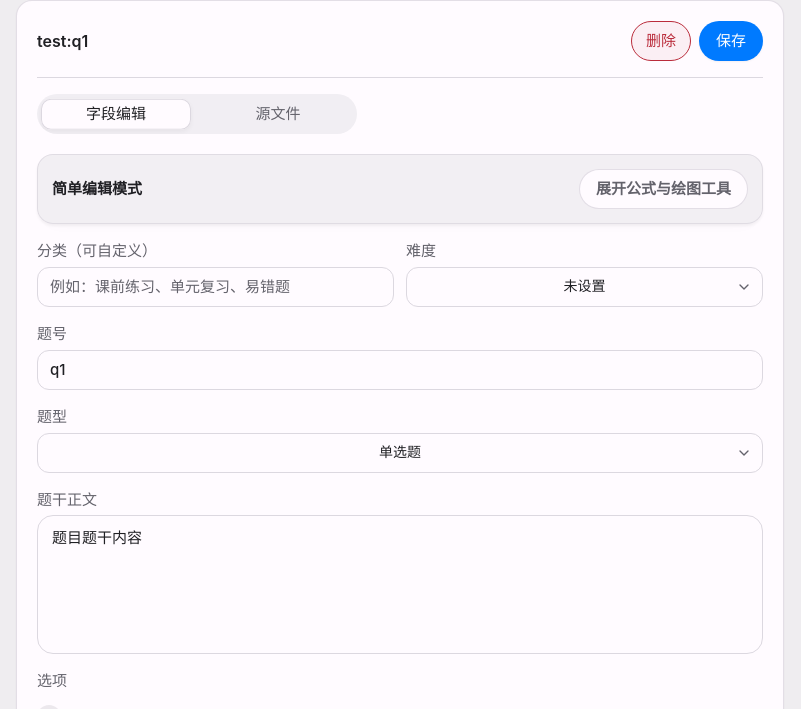
it: BankQuestionEditorPanel User Journeys › Single Question Mode › lets teachers select and clear simple/medium/hard question difficulty
Click the dropdown named "题目难度" at (584, 286), box [406, 266, 763, 306]
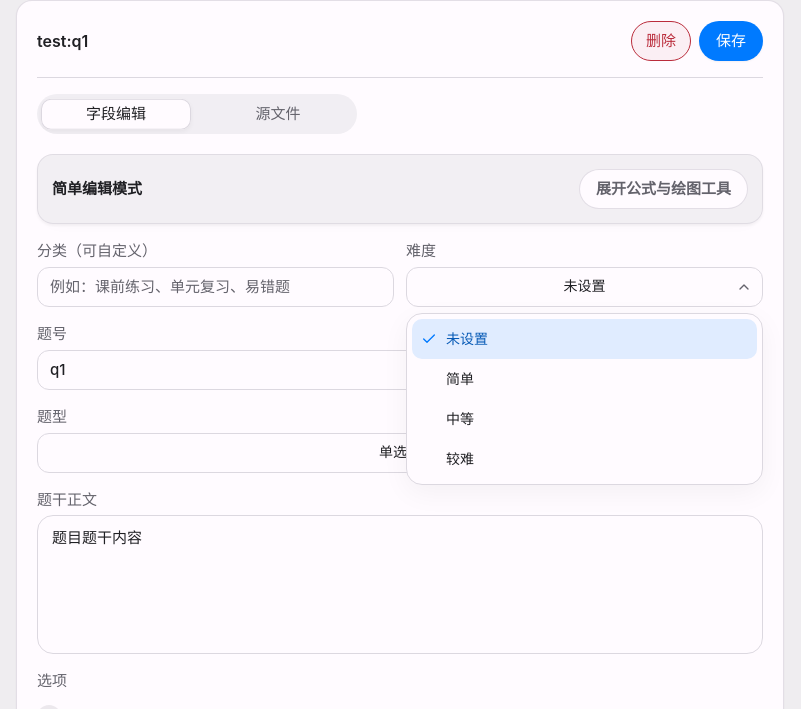
Click the option "较难" at (460, 459), box [446, 450, 474, 467]
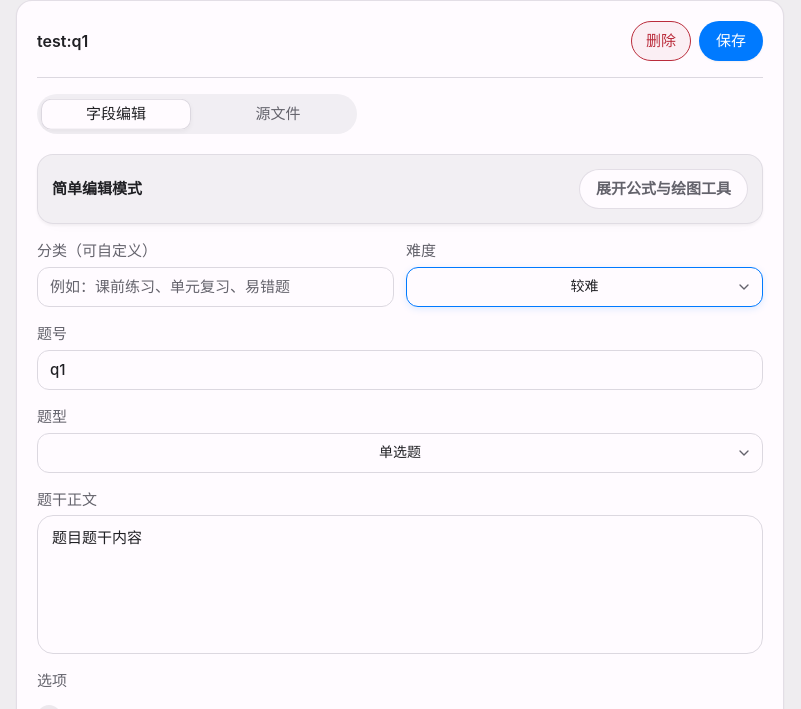
Result: the dropdown named "题目难度" reads "较难"
Click the dropdown named "题目难度" at (584, 286), box [406, 266, 763, 306]
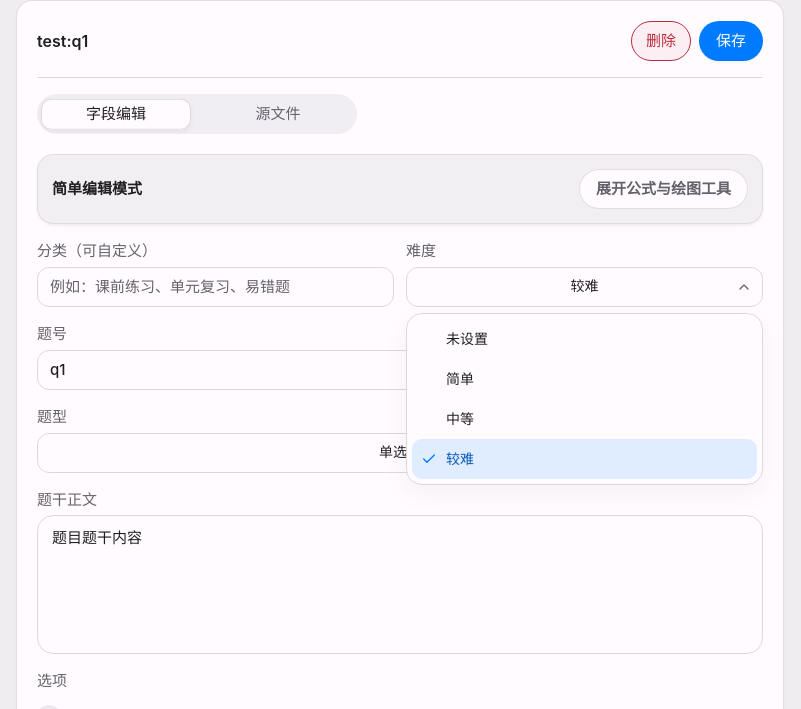
Click the option "未设置" at (467, 339), box [446, 330, 488, 347]
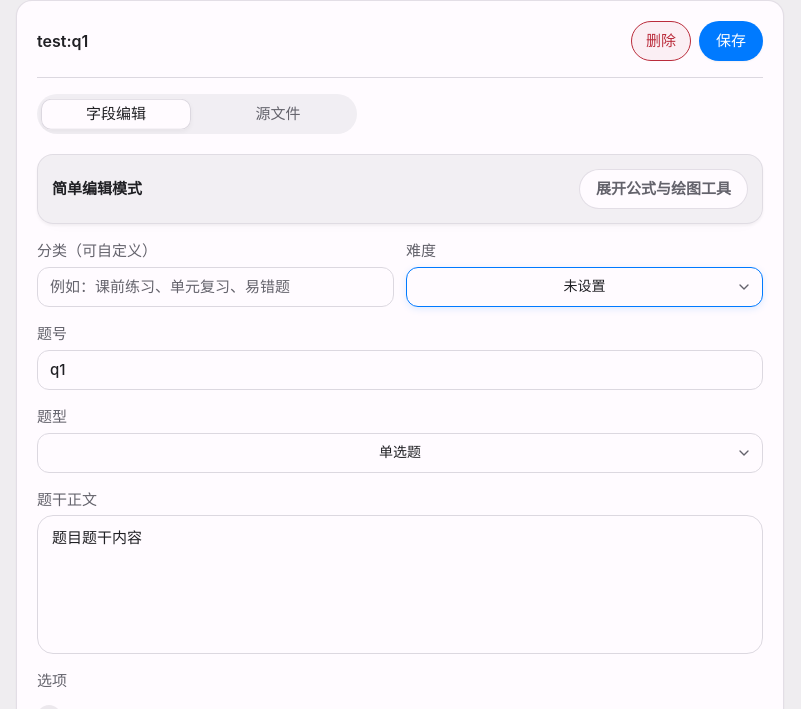
Result: the dropdown named "题目难度" reads "未设置" at [406, 266, 763, 306]
